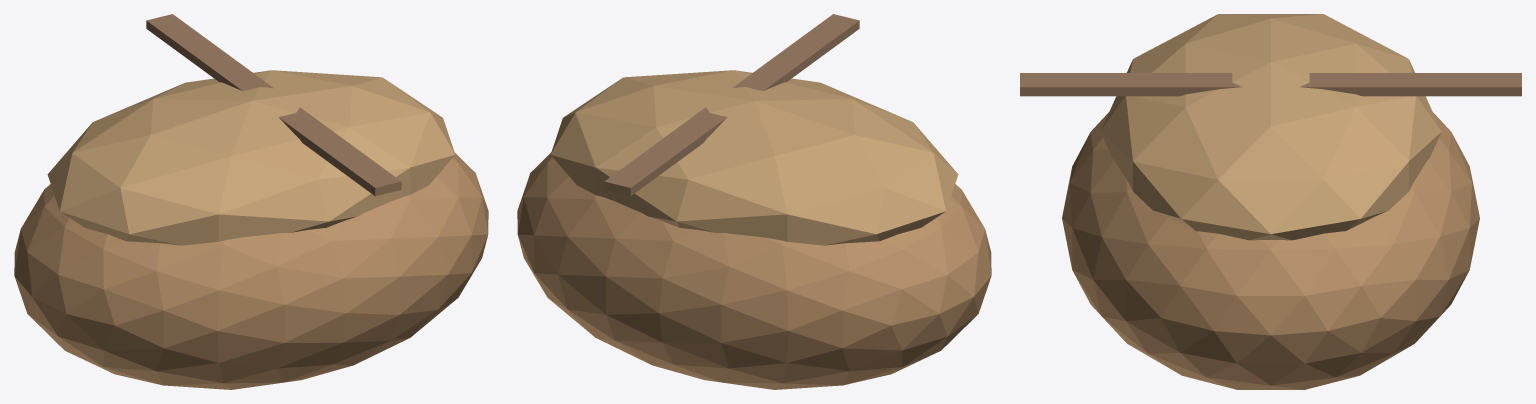
The model's file is bread.glb.
The picture shows the model from 3 angles, left to right: view 1: azimuth 30°, elevation 25°; view 2: azimuth 150°, elevation 25°; view 3: azimuth 270°, elevation 25°; orthographic projection. The views are drawn at different scales.
Parts seen in each view (by area): view 1: waybread-00, waybread-01, waybread-02, waybread-04, waybread-03; view 2: waybread-00, waybread-01, waybread-02, waybread-04, waybread-03; view 3: waybread-00, waybread-01, waybread-02, waybread-04, waybread-03.
Boxes of the visible parts, x1,y1,x2,y2 form: waybread-00: [14, 152, 488, 389]; waybread-01: [47, 70, 455, 245]; waybread-02: [146, 14, 301, 109]; waybread-04: [279, 109, 401, 196]; waybread-03: [196, 51, 350, 159]; waybread-00: [517, 152, 991, 389]; waybread-01: [550, 70, 958, 245]; waybread-02: [604, 87, 734, 196]; waybread-04: [704, 14, 859, 109]; waybread-03: [665, 50, 809, 158]; waybread-00: [1062, 112, 1479, 389]; waybread-01: [1100, 14, 1441, 240]; waybread-02: [1237, 73, 1521, 96]; waybread-04: [1020, 73, 1302, 96]; waybread-03: [1129, 73, 1412, 96].
Bounding box in the file's own units: 0.332 × 0.188 × 0.3.
